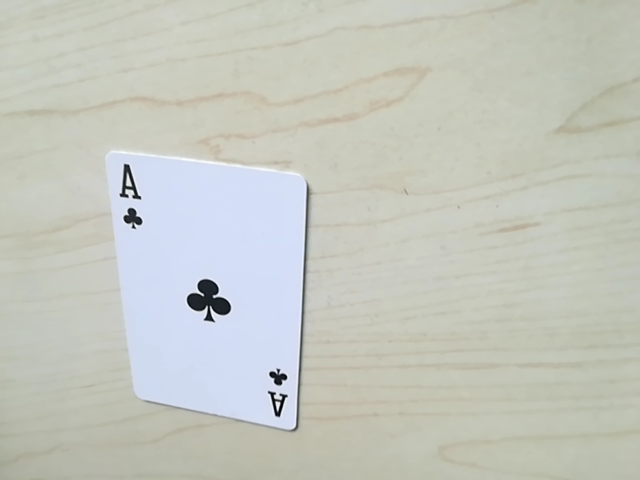mh a: (110, 157, 149, 235), (261, 360, 291, 424)
